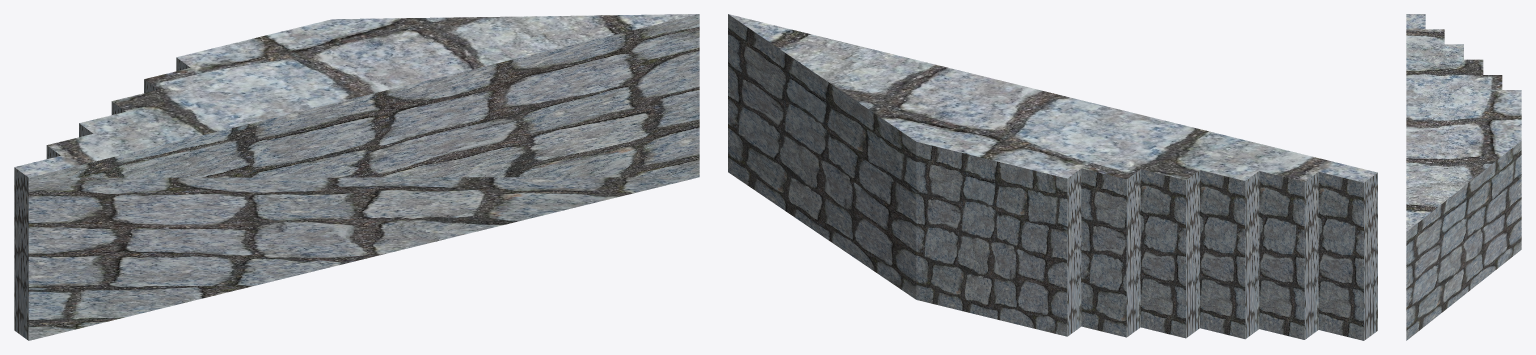
Rendered from slope.dae.
The picture shows the model from 3 angles, left to right: view 1: azimuth 30°, elevation 25°; view 2: azimuth 150°, elevation 25°; view 3: azimuth 270°, elevation 25°; orthographic projection. The views are drawn at different scales.
Parts seen in each view (by area): view 1: 3MF Object.001; view 2: 3MF Object.001; view 3: 3MF Object.001.
Part boxes in pixels (x1,y1,x2,y2): 3MF Object.001: [14, 14, 699, 340]; 3MF Object.001: [728, 14, 1377, 340]; 3MF Object.001: [1406, 14, 1521, 340].
Bounding box in the file's own units: 4.3 × 0.96 × 1.
